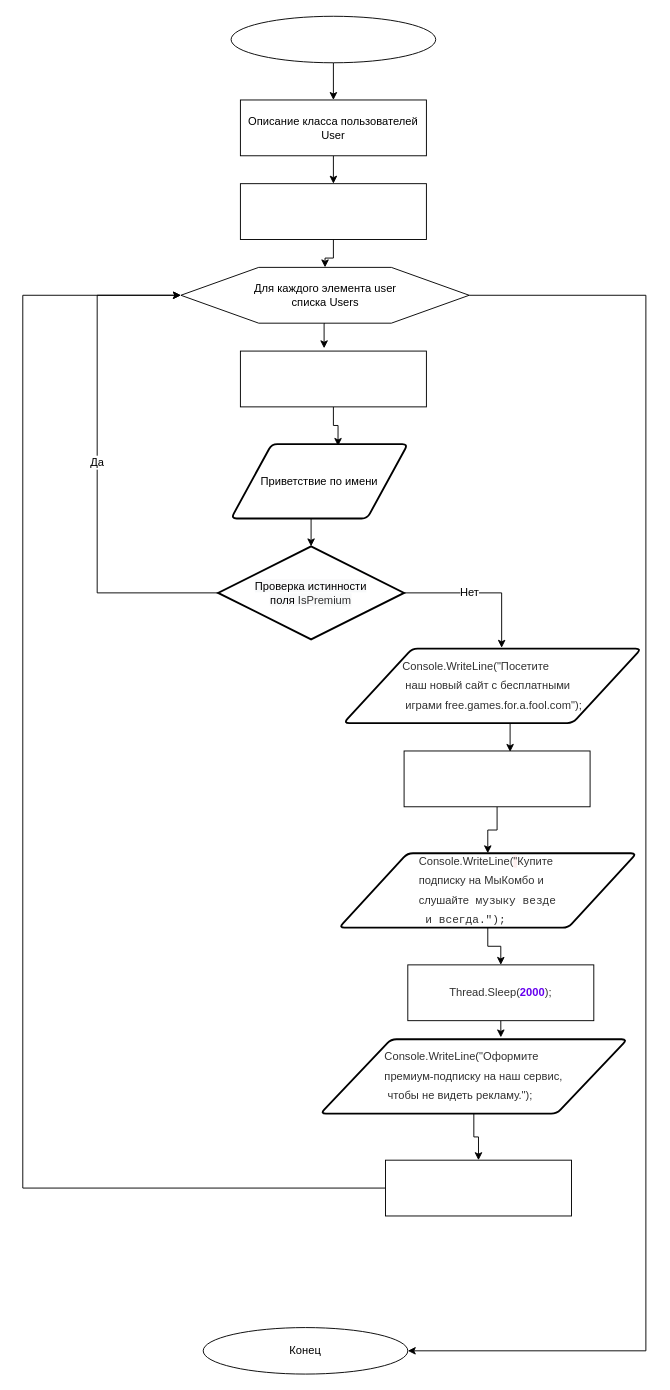
Image size: 670x1390. Some labels were removed from this diagram. The shapes that lost their labels are listed below. From the top down, each one's centre as x and y in pixels, then its label:
the point at 333,39: Начало
the point at 332,211: Создание списка Users экземпляров User
the point at 332,378: Считать поля экземпляра user
the point at 496,778: Thread.Sleep( 1000 );
the point at 478,1187: Thread.Sleep( 3000 );
